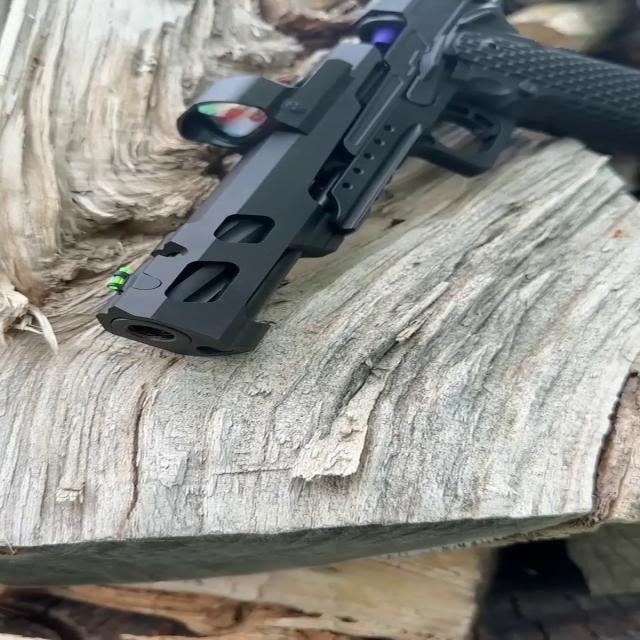Handgun: (84, 1, 640, 369)
